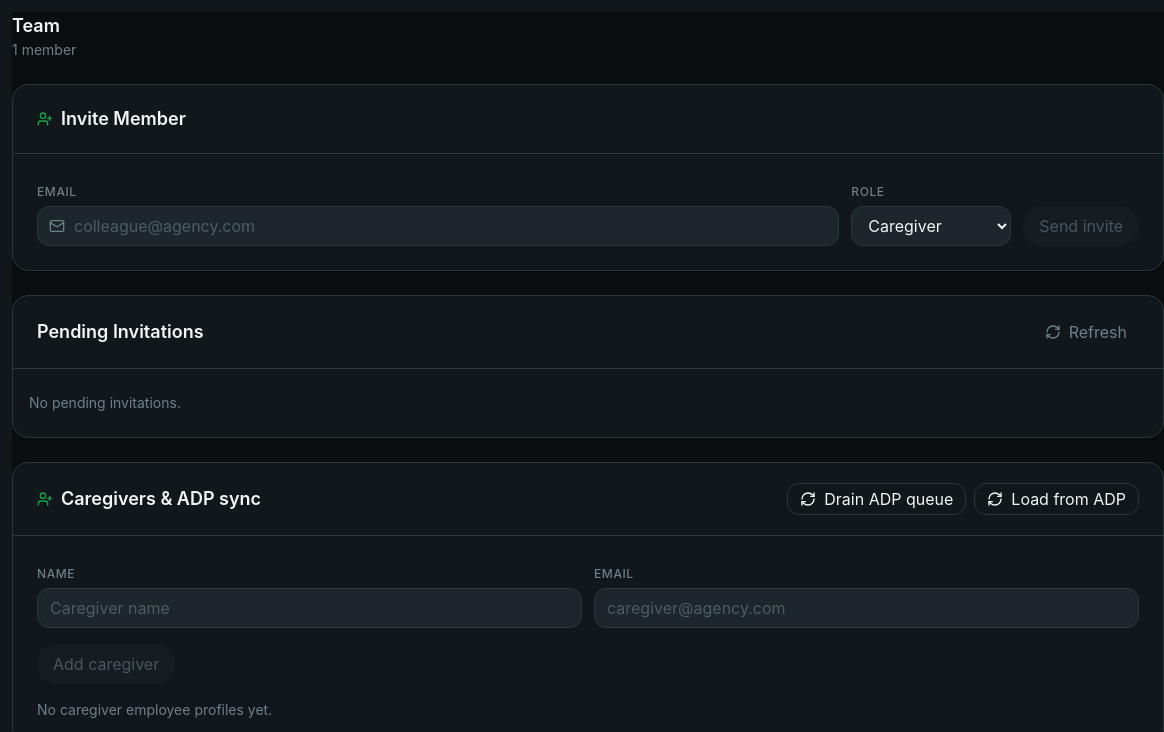
Scenario: TeamPage › loads ADP workers and shows a summary toast
Click the button "Load from ADP" at (1057, 499), box 974,483 -> 1139,515
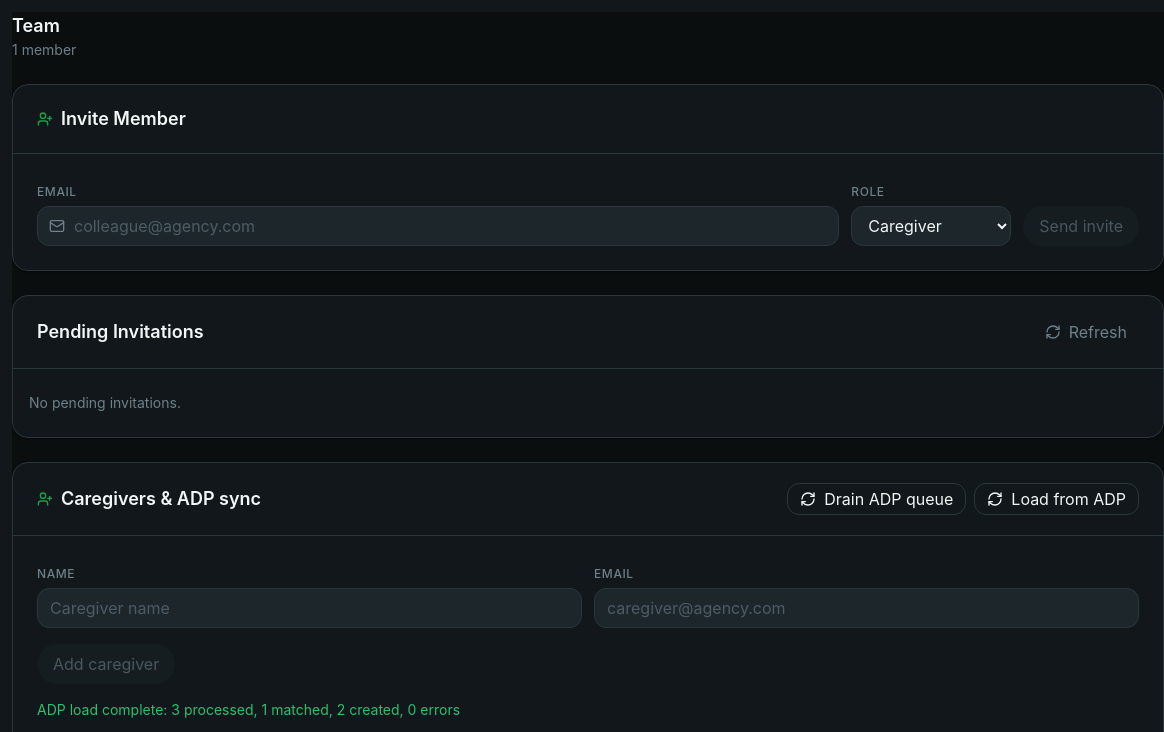
Result: the text "3 processed, 1 matched, 2 created, 0 errors" is shown at 37,701 -> 460,718
